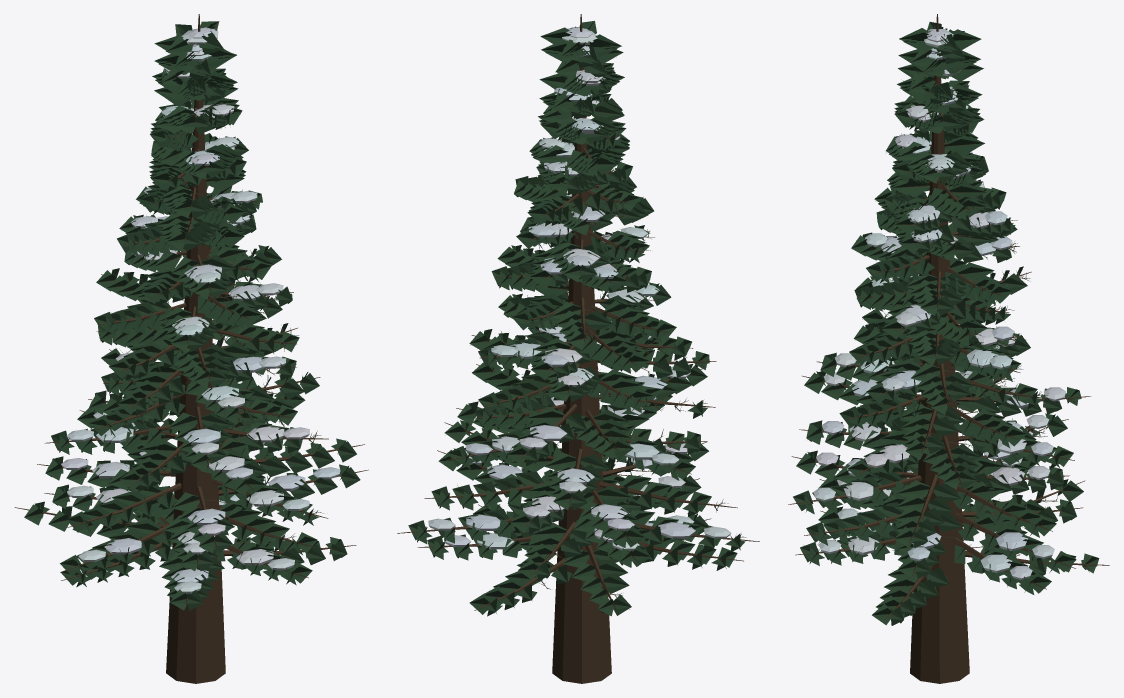
The model's file is pc_fir_1_lod0.glb.
The picture shows the model from 3 angles, left to right: view 1: azimuth 30°, elevation 25°; view 2: azimuth 150°, elevation 25°; view 3: azimuth 270°, elevation 25°; orthographic projection.
Parts seen in each view (by area): view 1: pc_fir_1_lod0; view 2: pc_fir_1_lod0; view 3: pc_fir_1_lod0.
Part boxes in pixels (left/top/right/bottom): pc_fir_1_lod0: left=14, top=14, right=368, bottom=683; pc_fir_1_lod0: left=397, top=14, right=759, bottom=683; pc_fir_1_lod0: left=788, top=14, right=1109, bottom=683.
Size of the model in its own units: 5.29 by 10.5 by 4.65.
